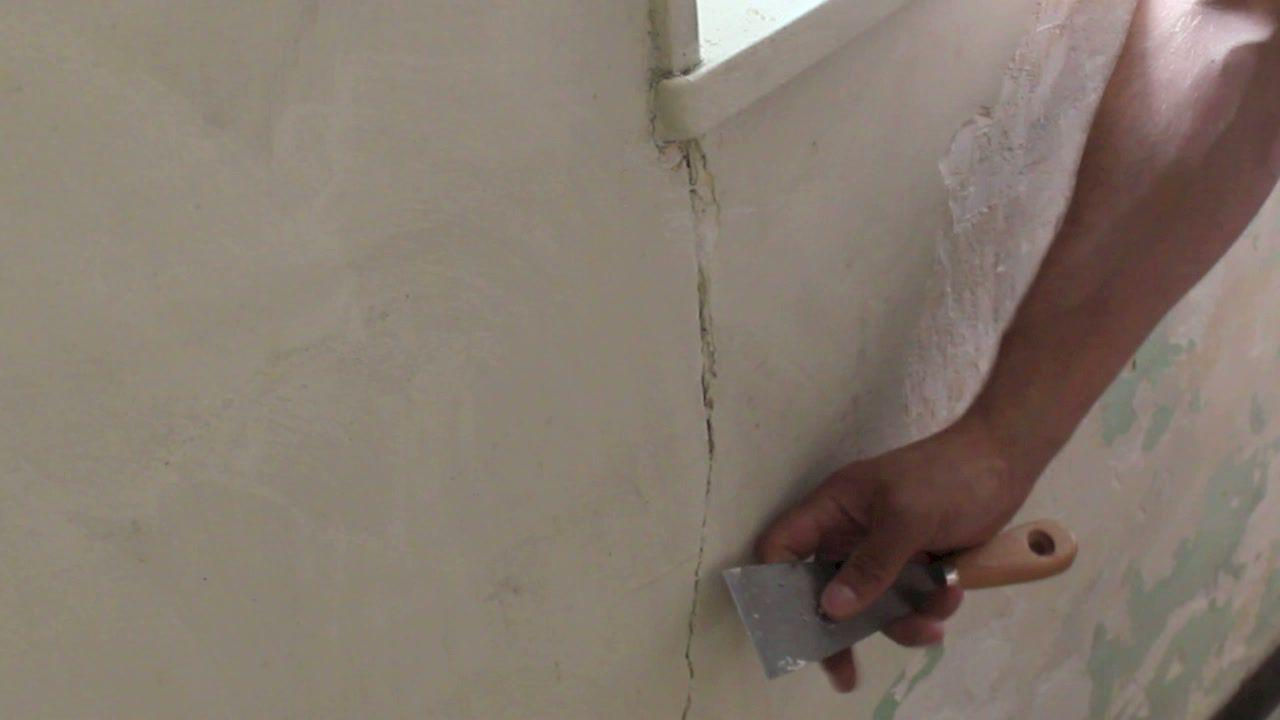crack: (680, 146, 718, 720)
